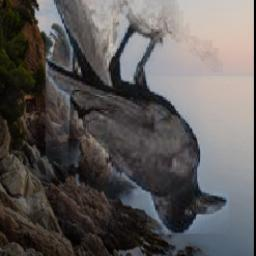Crow: (47, 0, 230, 235)
